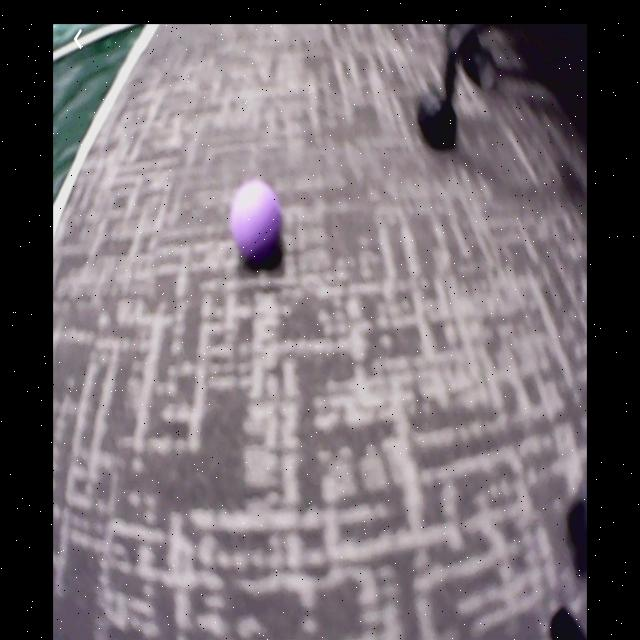ball: (233, 181, 284, 264)
